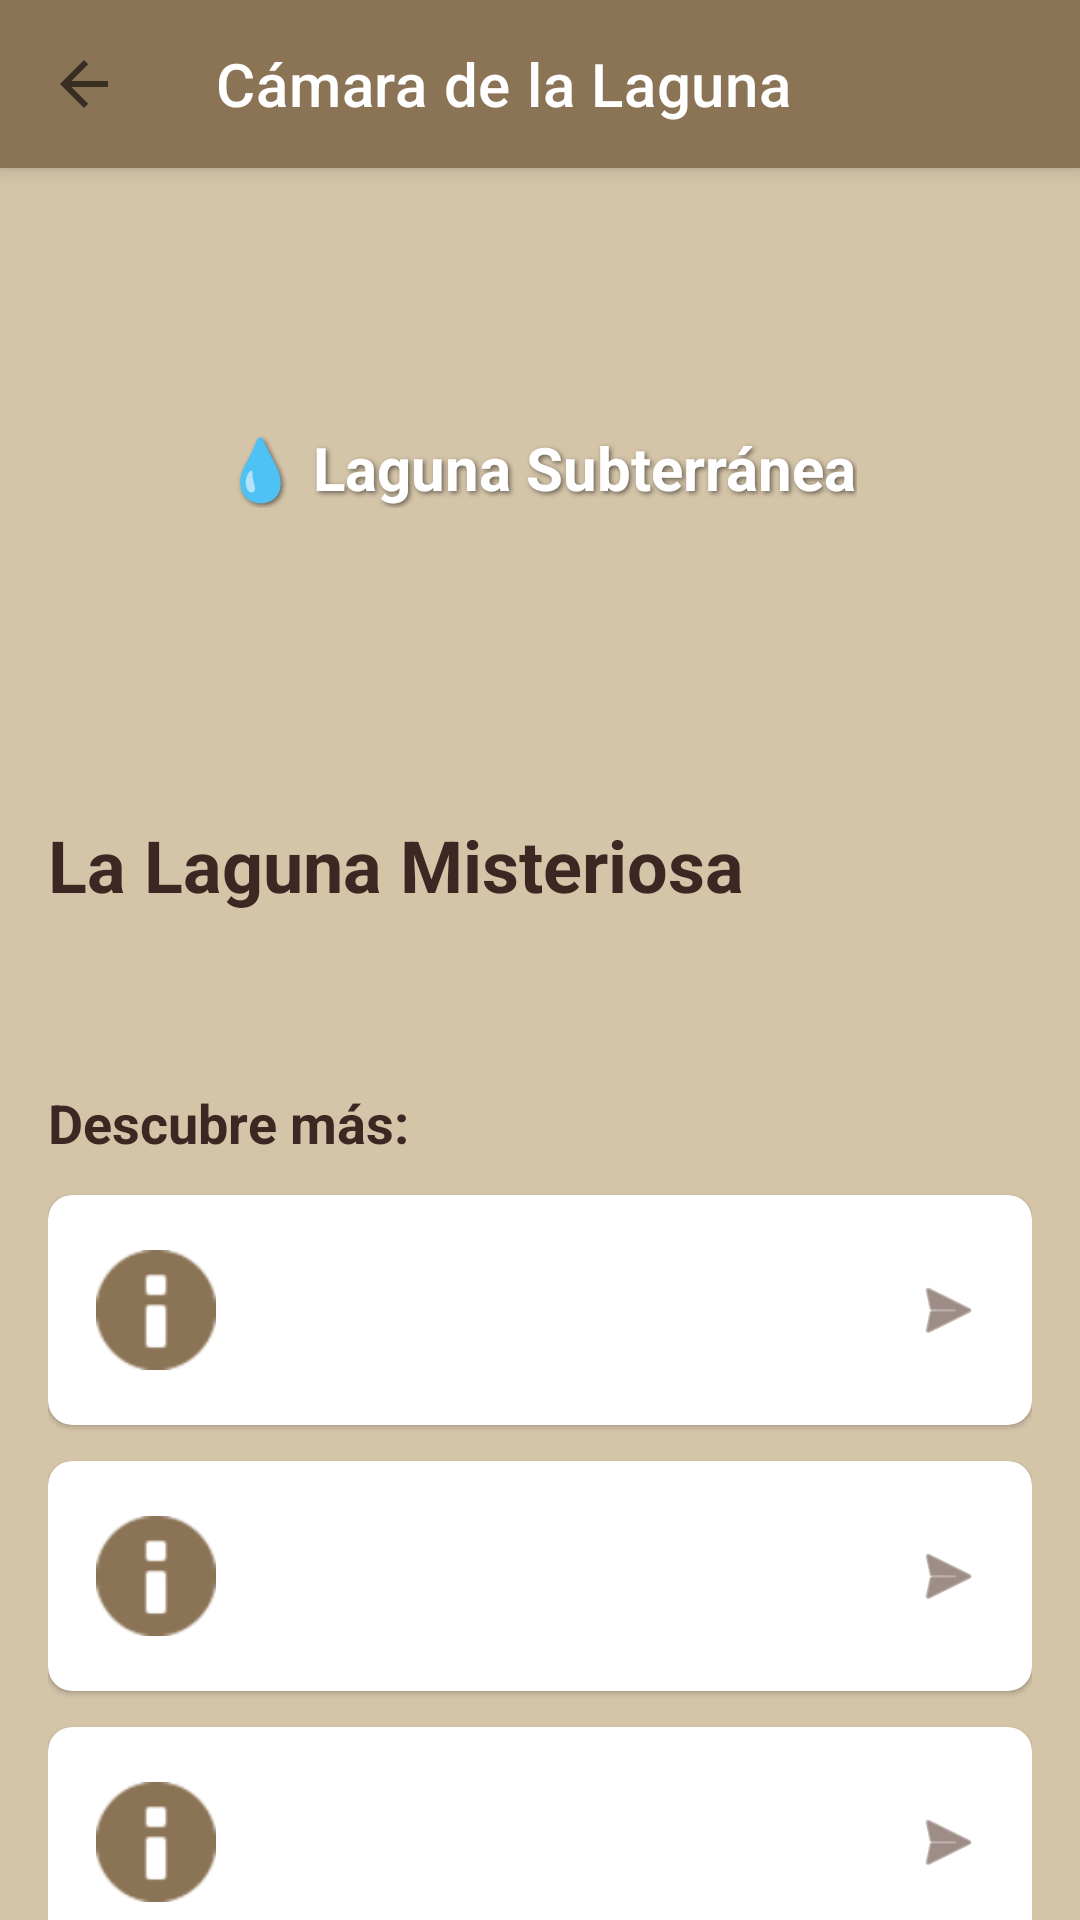

Named icons in this screenshot (1080w x 1920h) and their bounding boxes, (x1, y1, x2, y2):
info: (96, 1250, 216, 1370), (96, 1516, 216, 1636), (96, 1782, 216, 1902)
